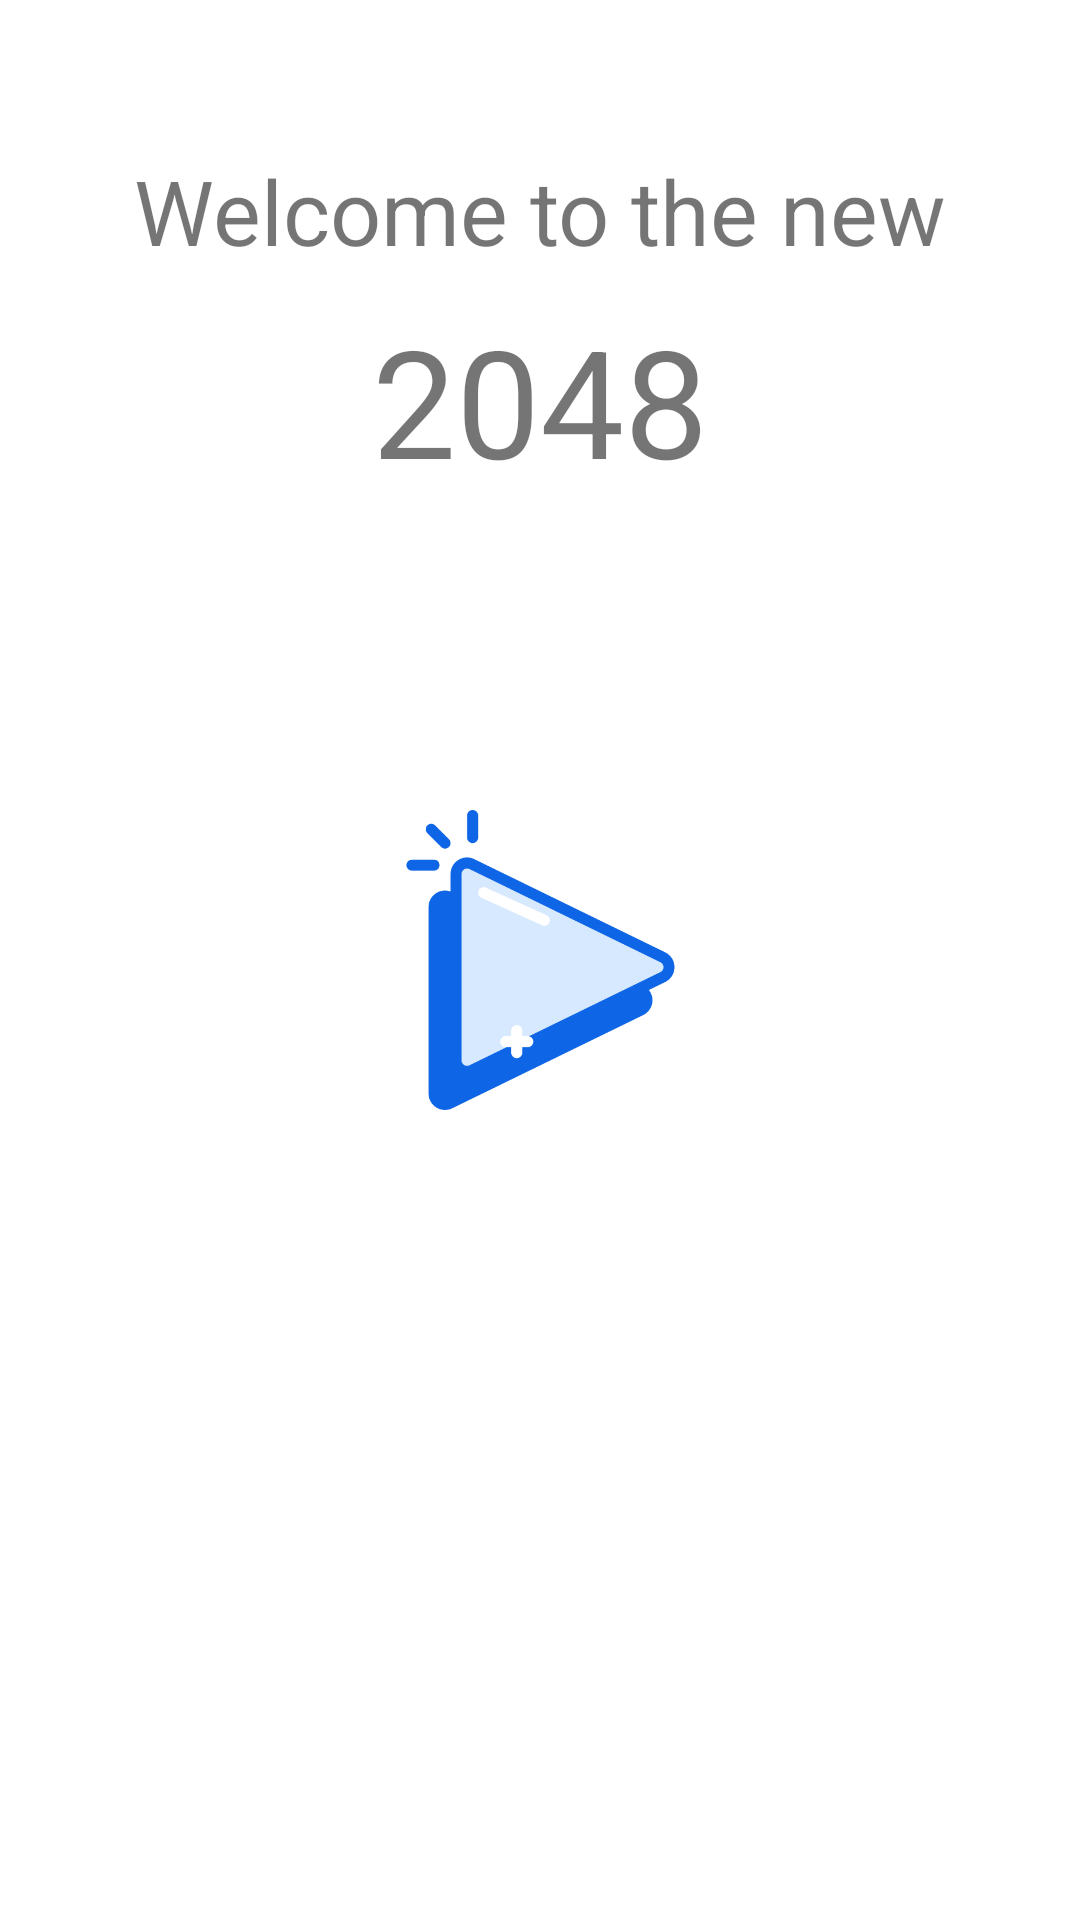

Named icons in this screenshot (1080×1920) and their centers, (x,y):
play: (540,960)
